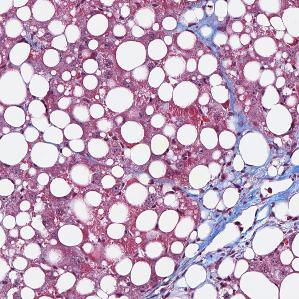fibrosis: (214, 172, 294, 240)
